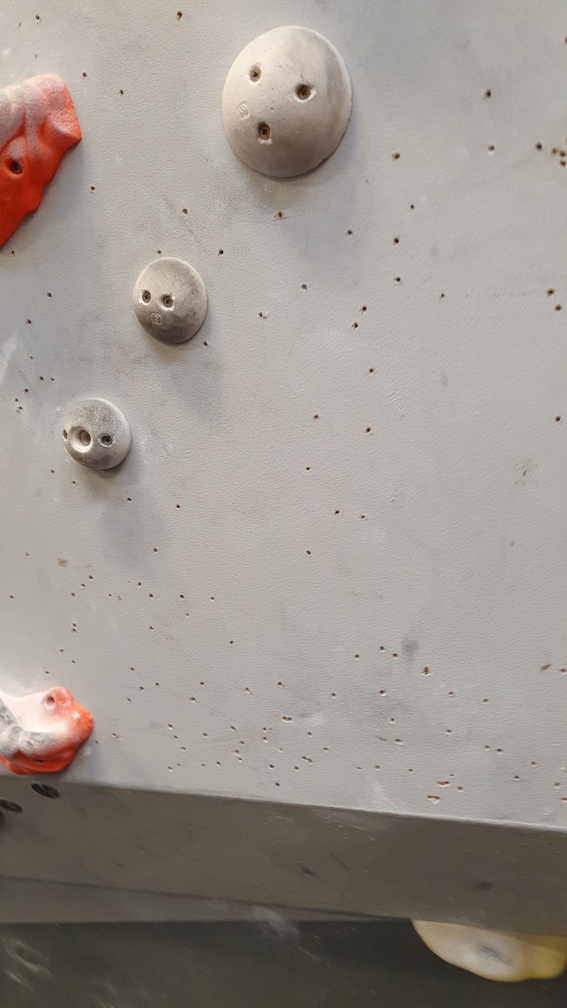Hand Start: (28, 777, 64, 805), (1, 795, 27, 815)
Jug: (1, 57, 88, 256), (1, 686, 102, 781)
Sloper: (216, 20, 354, 187), (130, 255, 210, 349), (60, 396, 139, 476)
